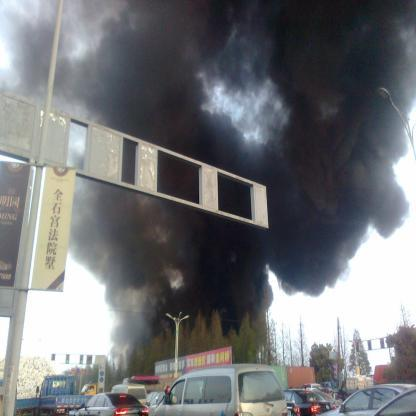smoke: (276, 8, 344, 300), (86, 219, 267, 323), (344, 3, 411, 226), (192, 0, 275, 162), (100, 0, 193, 135), (62, 6, 100, 110), (5, 2, 49, 80)
